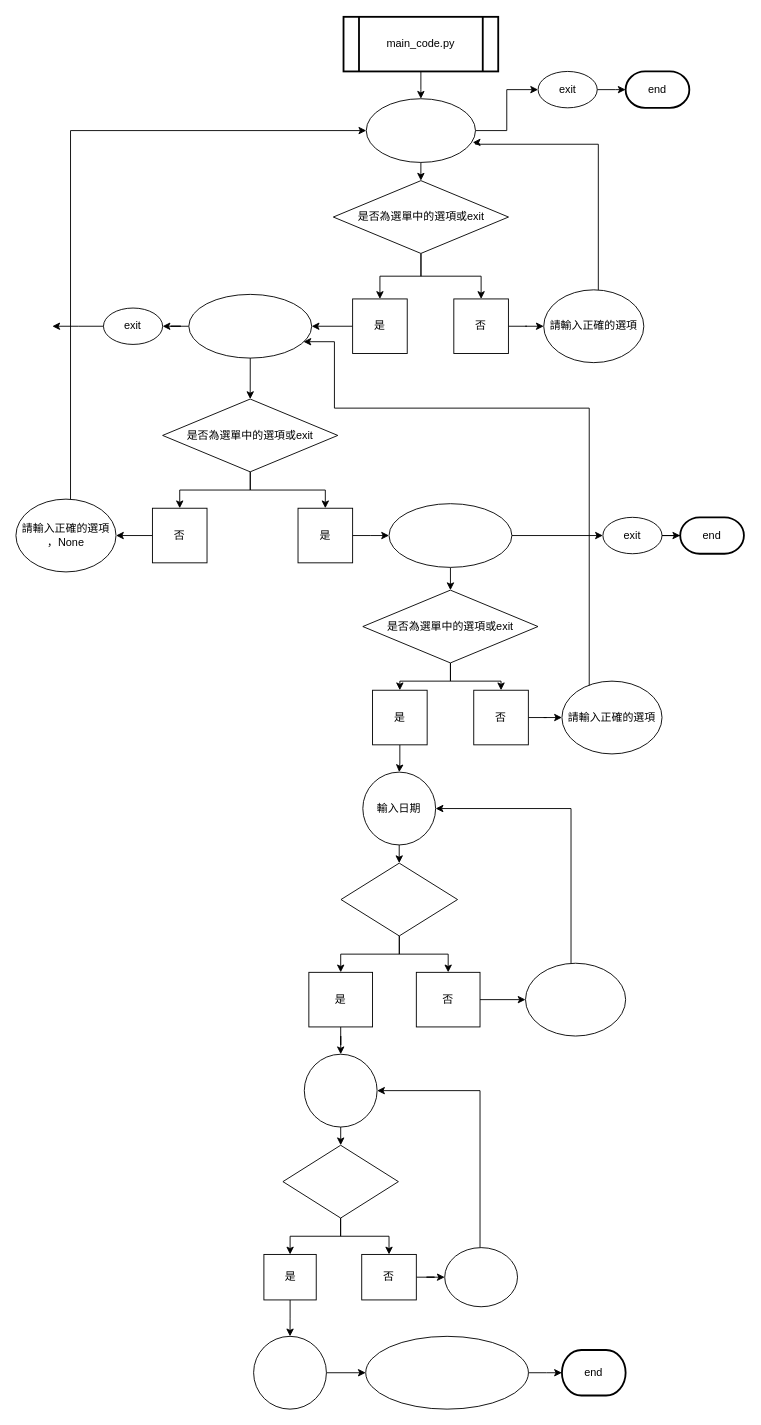
Some shapes in this 761 by 1425 pixel diagram are drawn without their labels. Each missing label, with the centre of its shape:
是否為有效日期: [399,899]
格式不對: [481,1277]
格式是否正確: [340,1181]
紀錄完成，以下是你的紀錄: [446,1372]
請輸入有效的日期: [575,999]
請輸入選單選項 (1.支出2.收入): [250,325]
請輸入選單選項 (食衣住行娛樂及其他): [450,535]
輸入備註: [289,1372]
輸入選單選項 (1.登帳或2.查詢): [420,130]
輸入金額: [340,1090]
